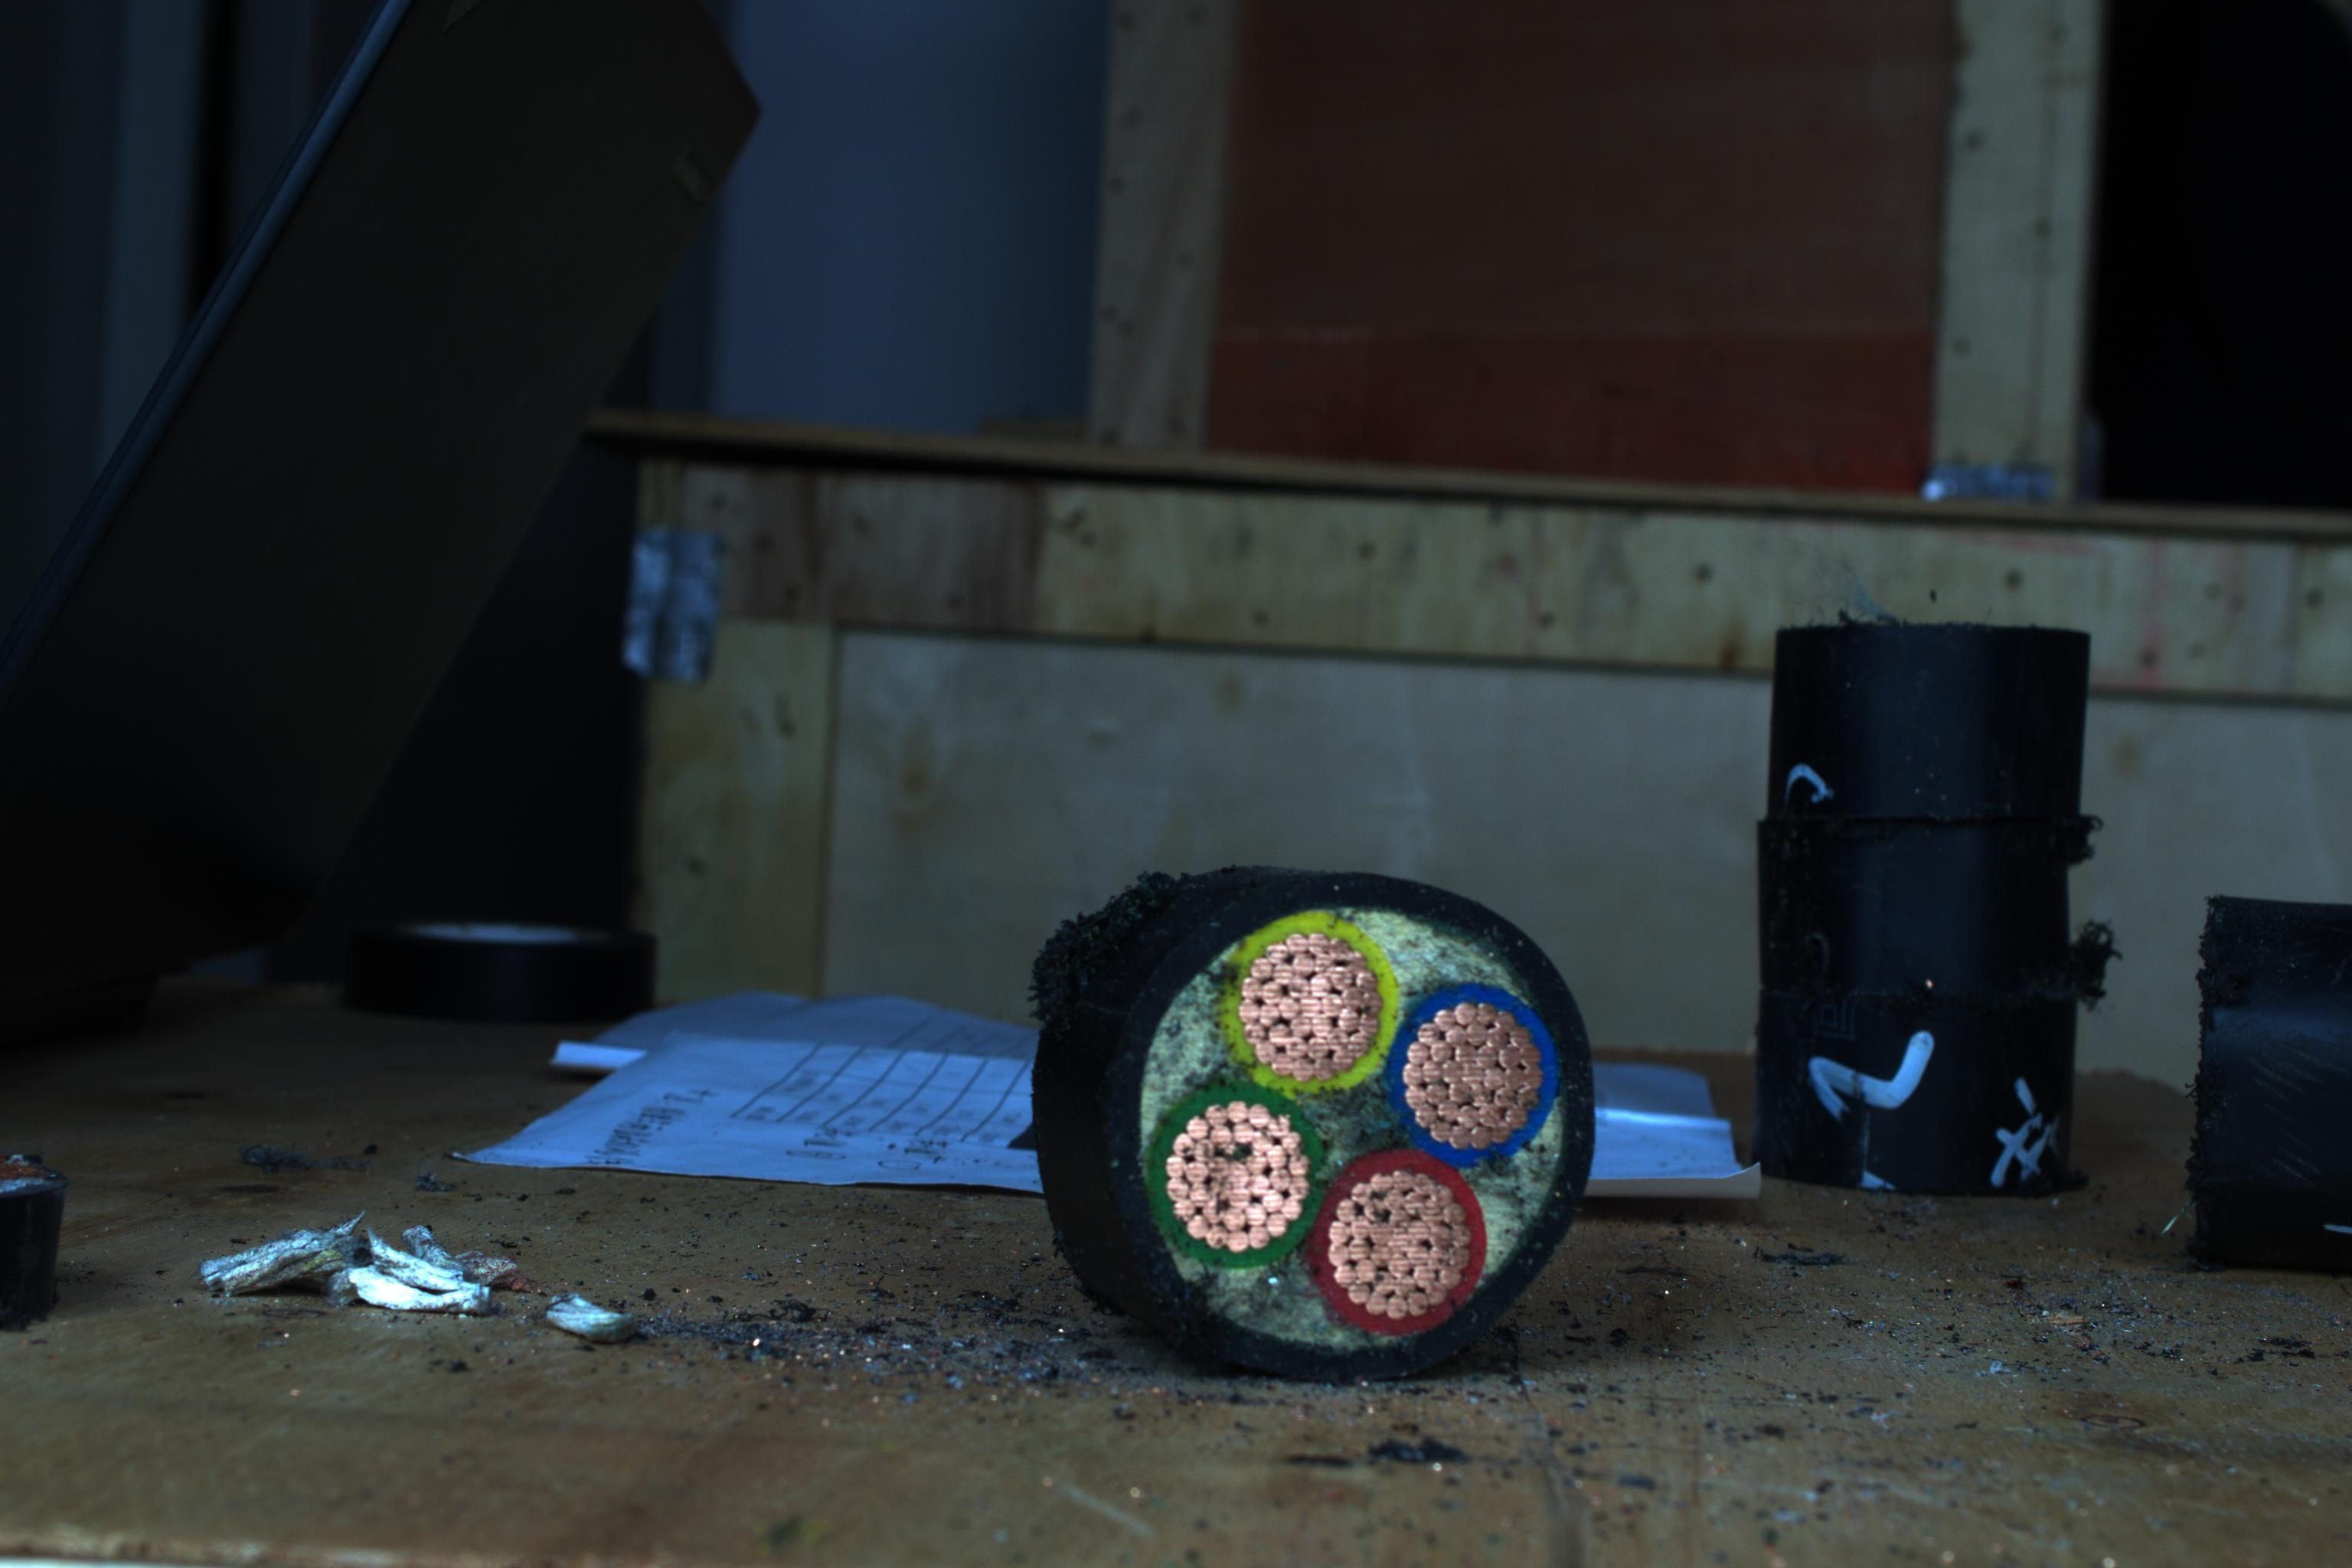YJV_0.6_1kV_4x185: (1078, 857, 1610, 1374)
